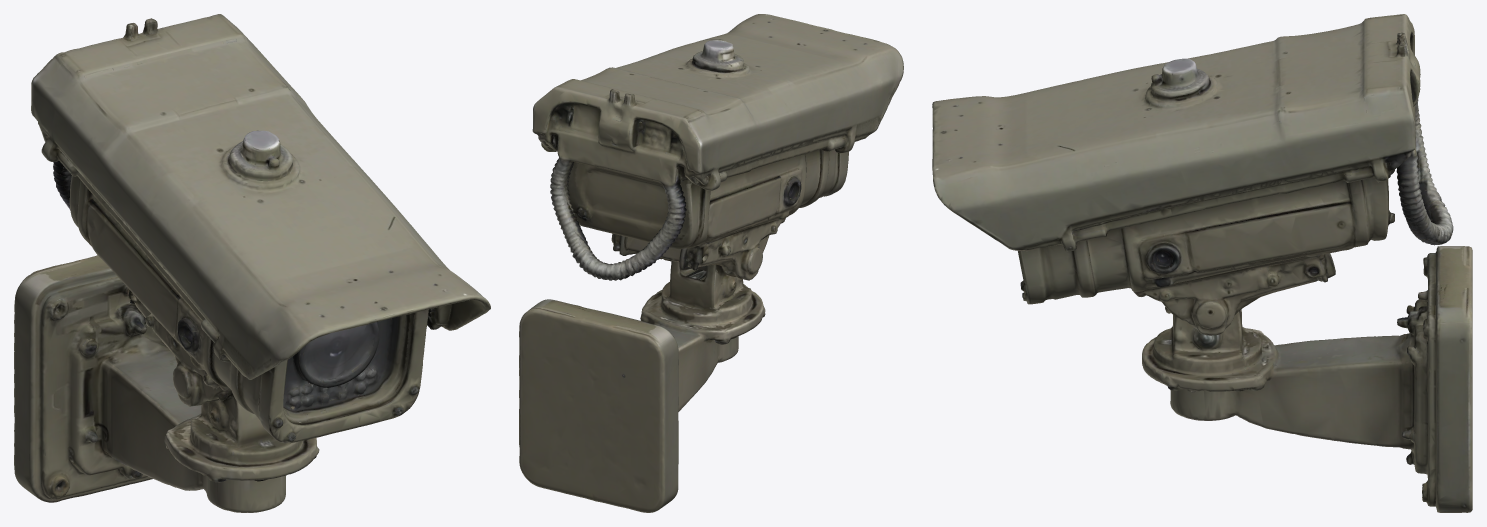
File: scifi_cam.0.glb
3 renders of one model, left to right at view 1: azimuth 30°, elevation 25°; view 2: azimuth 150°, elevation 25°; view 3: azimuth 270°, elevation 25°, orthographic. The views are drawn at different scales.
Parts seen in each view (by area): view 1: Object_4; view 2: Object_4; view 3: Object_4.
Part boxes in pixels (x1=…): Object_4: x1=14, y1=14, x2=490, y2=512; Object_4: x1=519, y1=14, x2=903, y2=512; Object_4: x1=932, y1=14, x2=1472, y2=512.
Bounding box in the file's own units: 0.822 × 1.73 × 1.91.
1 material, 1 textured.
